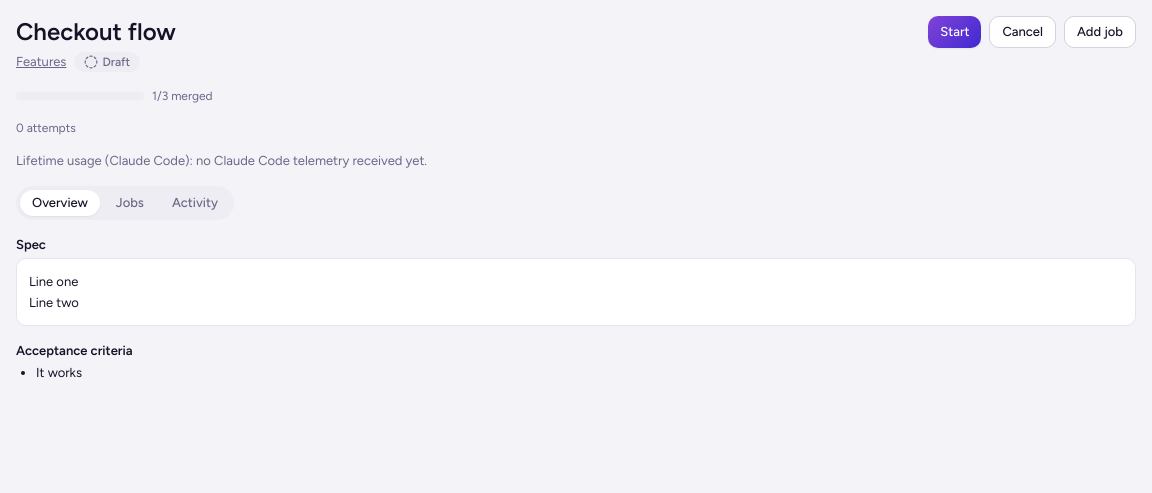
FeatureDetailView › shows warnings from start
Click the button "Start" at coordinates (955, 32), box [928, 16, 981, 48]
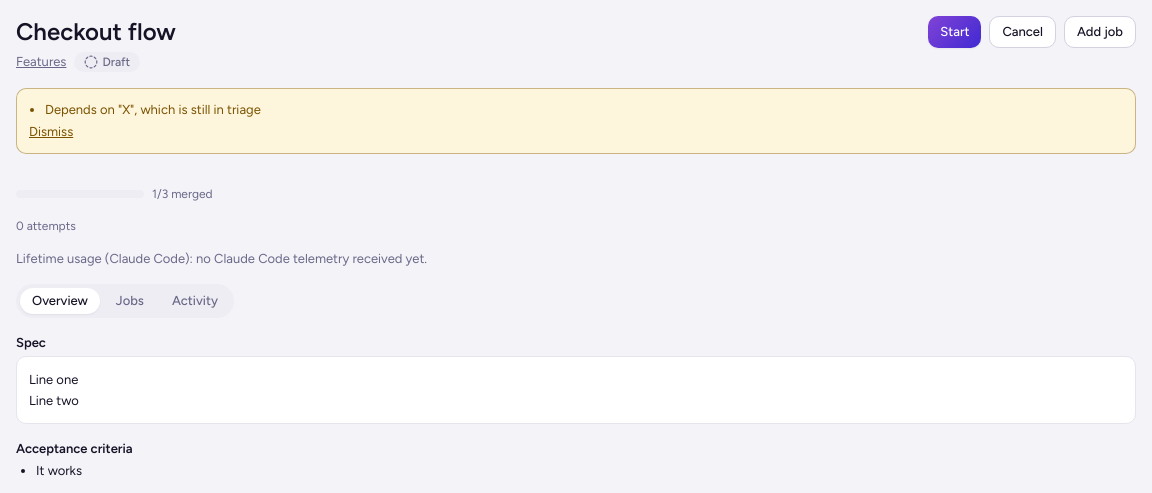
Now the list item "Depends on \"X\", which is still in triage" is shown, box [45, 102, 261, 117]
